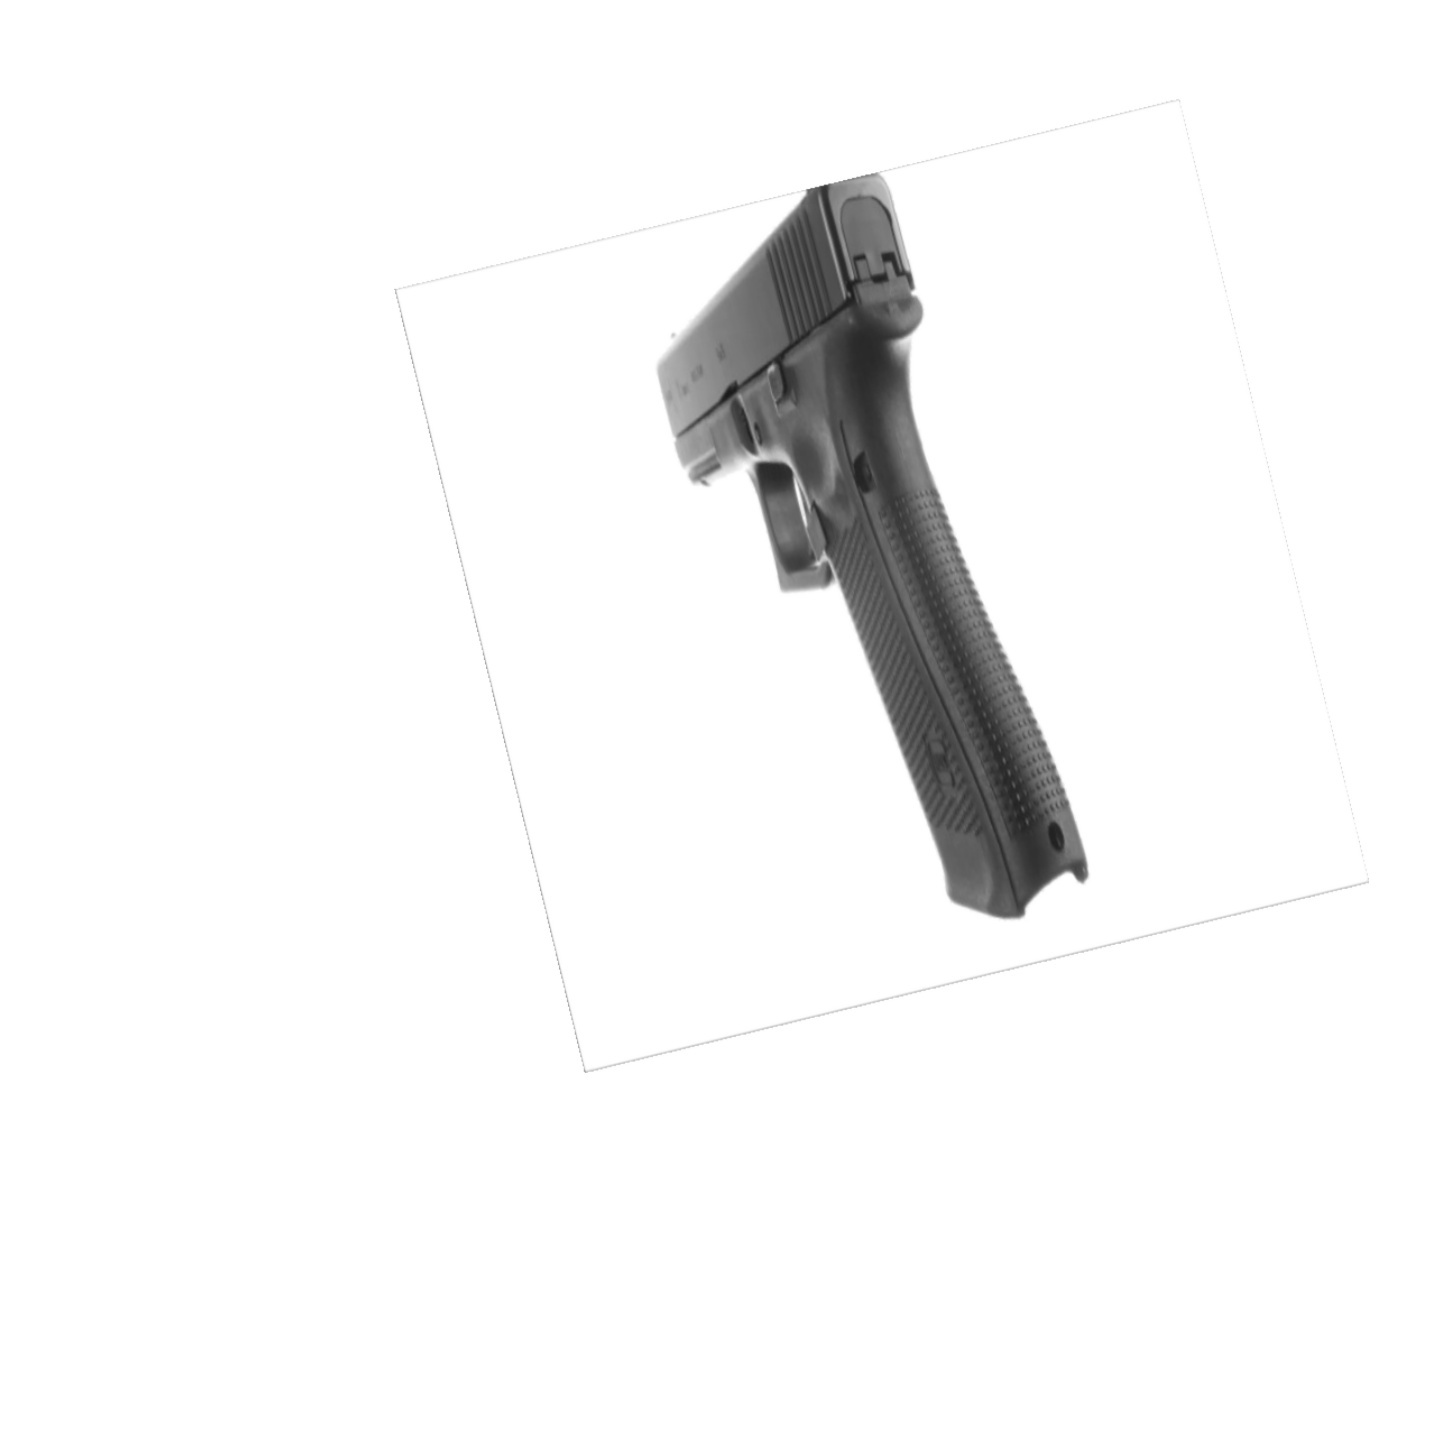gun: (645, 165, 1102, 924)
